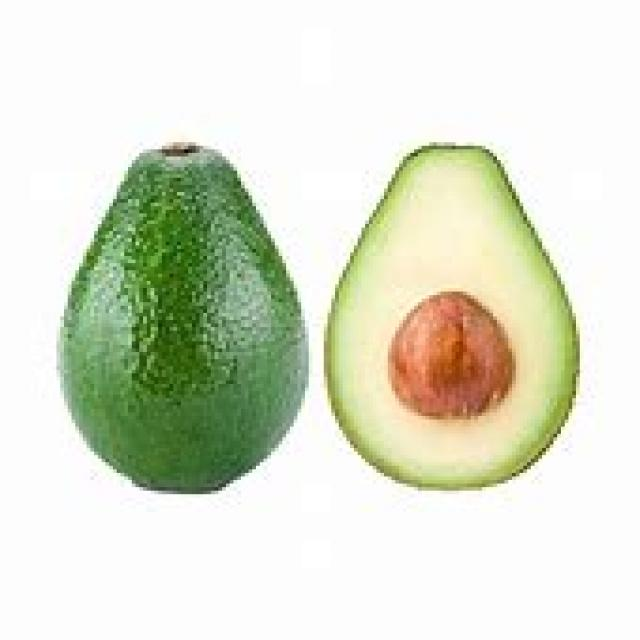Avocado: (31, 100, 304, 542), (319, 139, 573, 500)
